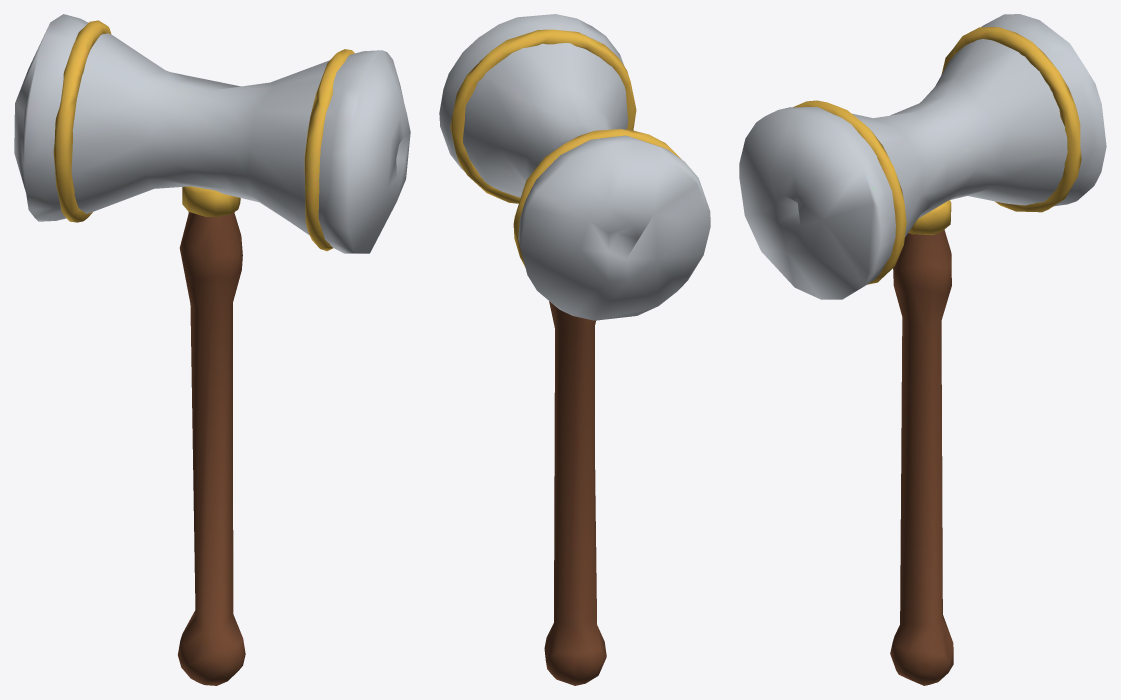
The model's file is paladin-hammer.glb.
3 views of the same model, side by side, from view 1: azimuth 30°, elevation 25°; view 2: azimuth 150°, elevation 25°; view 3: azimuth 270°, elevation 25° (orthographic). The views are drawn at different scales.
Parts seen in each view (by area): view 1: hammer; view 2: hammer; view 3: hammer.
Part boxes in pixels (<box>): hammer: <box>14,14,410,685</box>; hammer: <box>439,14,710,685</box>; hammer: <box>739,14,1106,685</box>.
Bounding box in the file's own units: 0.2805 × 0.5188 × 0.2805.
1 material, 1 textured.
